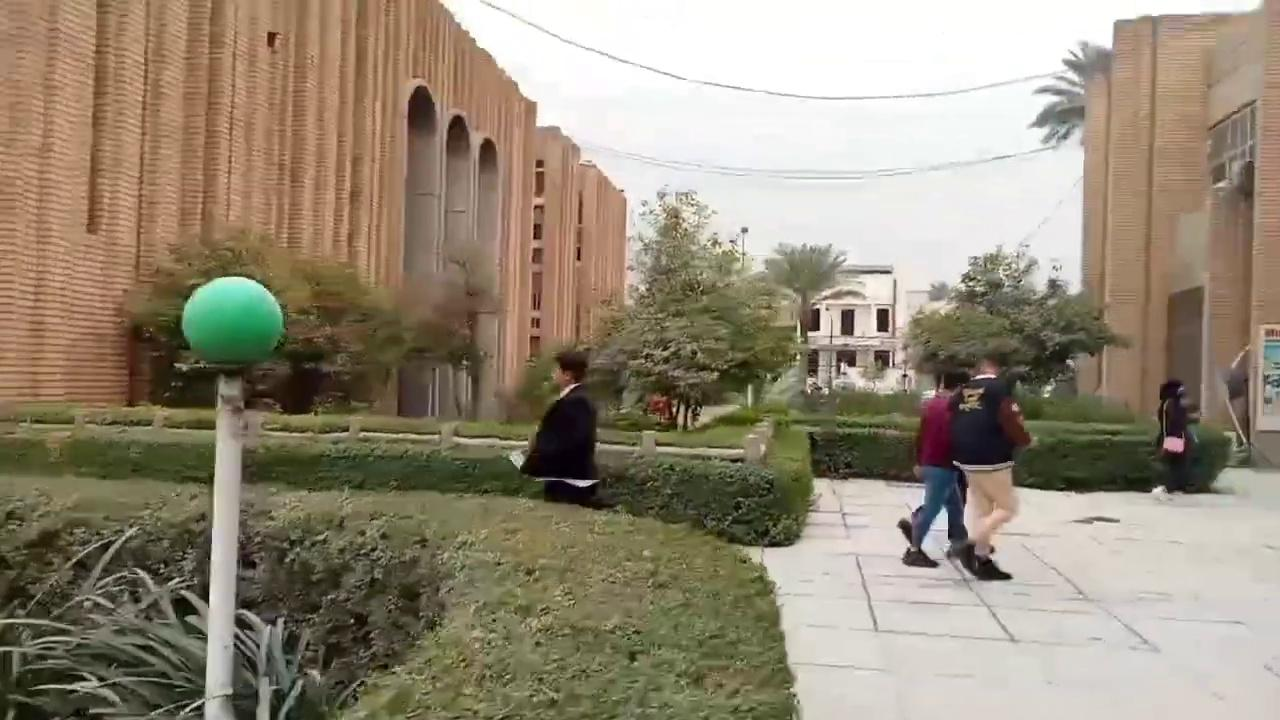person: (946, 355, 1031, 580), (896, 367, 973, 567), (519, 348, 603, 507), (1154, 379, 1195, 494)
tree: (2, 221, 813, 718), (592, 184, 808, 429), (899, 241, 1131, 398), (1026, 39, 1117, 394), (762, 240, 846, 393), (433, 236, 501, 420), (901, 301, 1016, 386), (1027, 39, 1113, 148)
